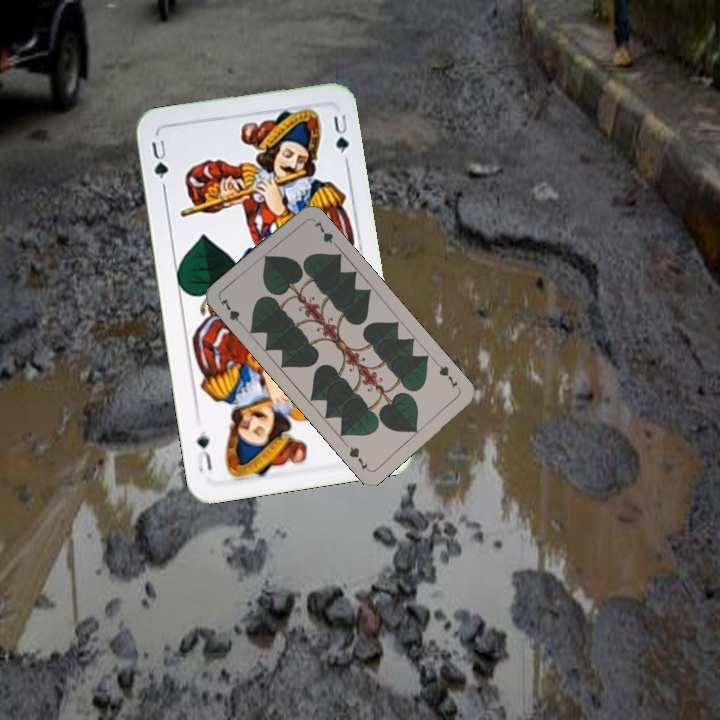G7: (216, 294, 247, 330), (432, 359, 463, 393)
GU: (147, 135, 171, 191)
